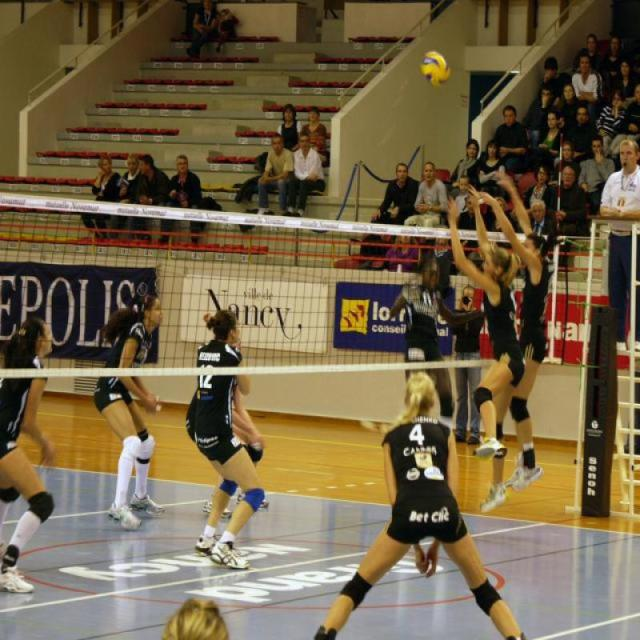volleyball: (419, 48, 454, 88)
